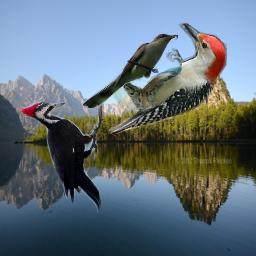Cuckoo: (82, 32, 178, 108)
Woodpecker: (108, 23, 227, 134), (19, 101, 104, 213)
